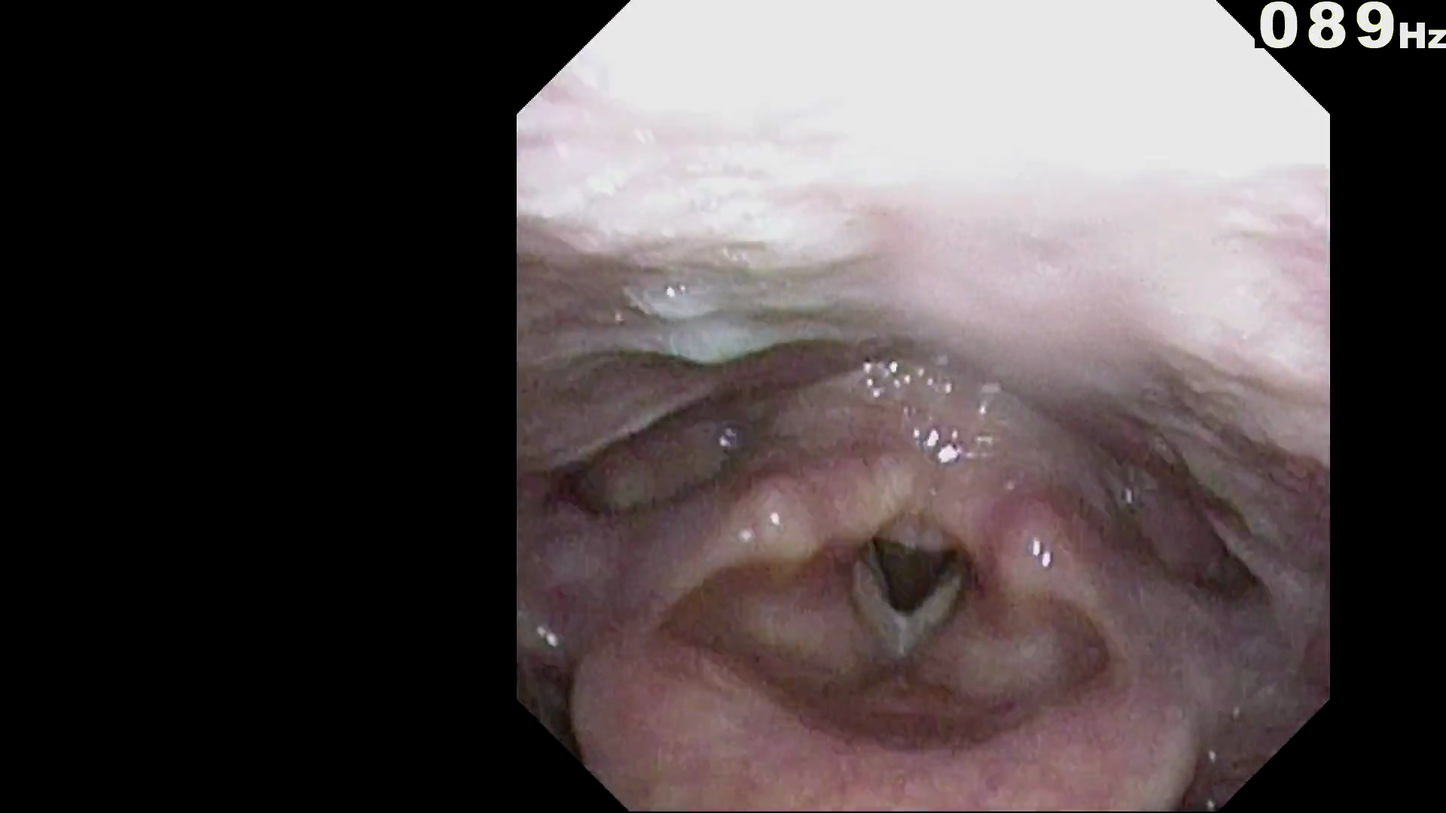epiglottis: (632, 682, 1191, 803)
trachea: (849, 533, 968, 657)
